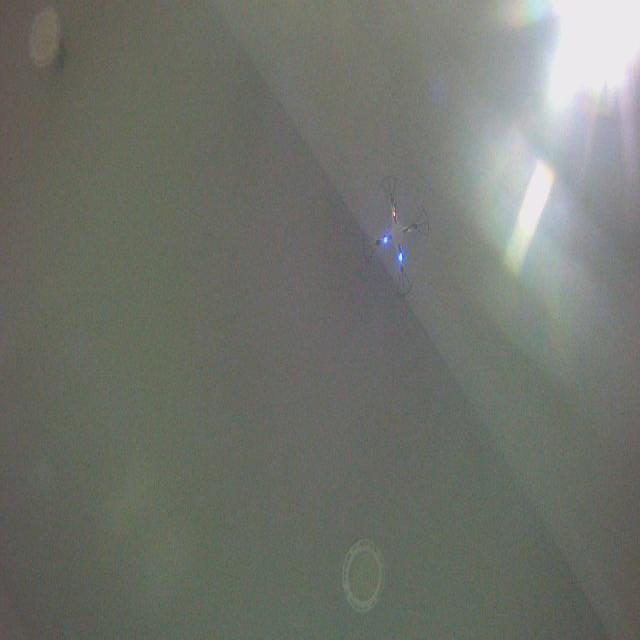drone: (360, 173, 430, 300)
